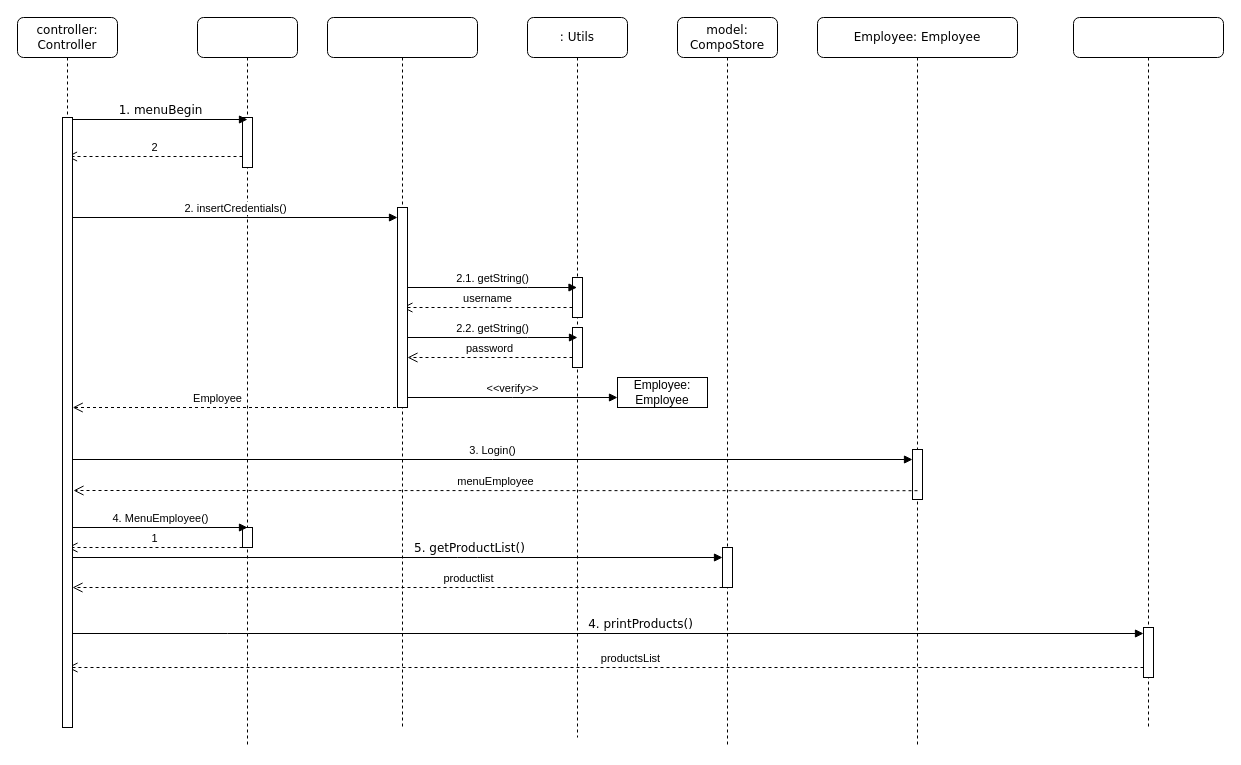
Image size: 1241x765. Some labels were removed from this diagram. Here are the shapes that lost their labels. From the top down, the box of each, then its label:
(196, 16, 298, 748): view: View
(326, 16, 478, 728): viewLogin: ViewLogin
(1072, 16, 1224, 728): productView: ProductView
